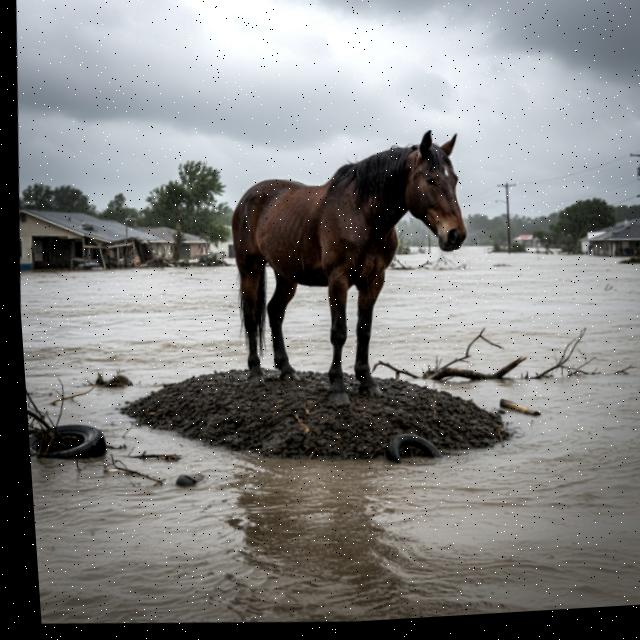horse: (201, 111, 495, 431)
